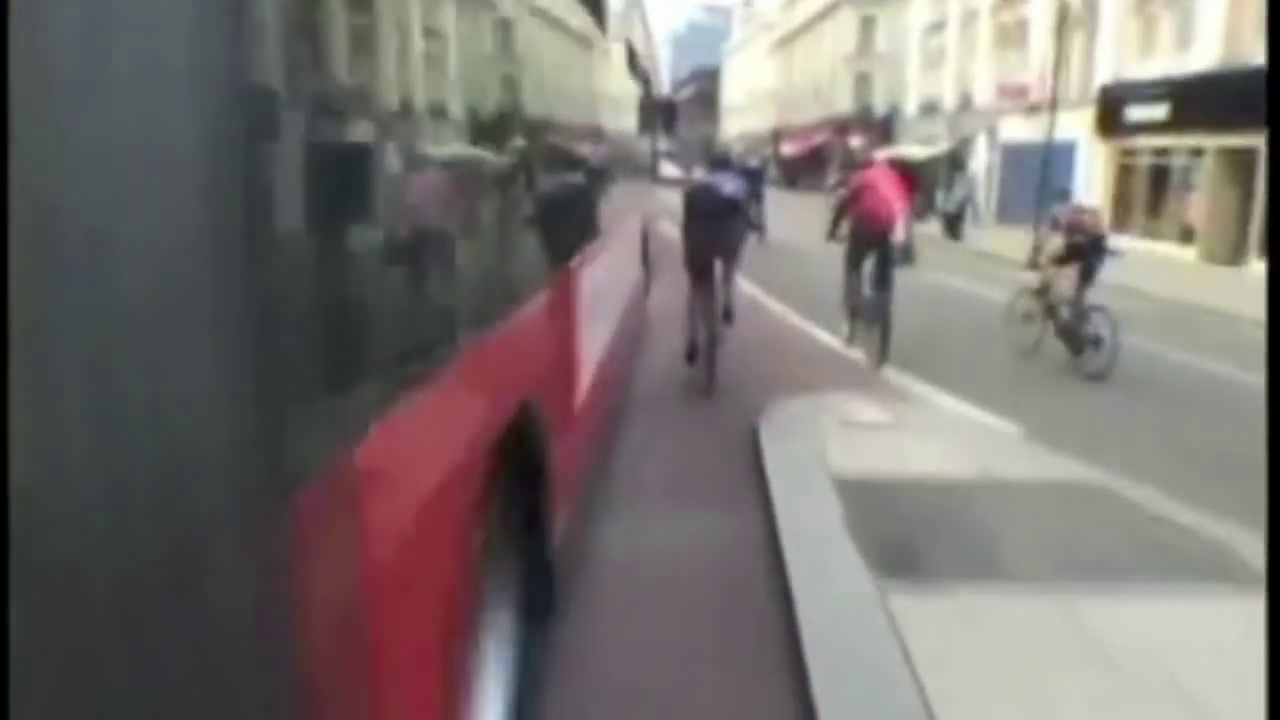cyclist_back: (1003, 184, 1126, 384), (671, 149, 754, 398), (829, 146, 914, 367)
